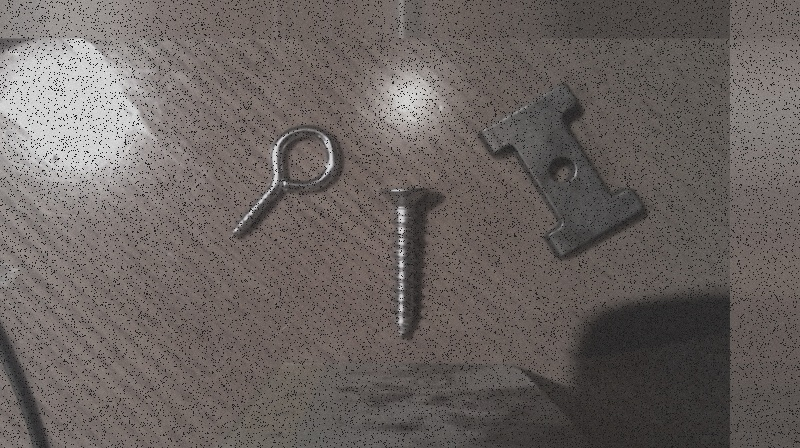O001: (226, 123, 345, 245)
O002: (478, 81, 650, 261)
S001: (374, 180, 433, 342)
